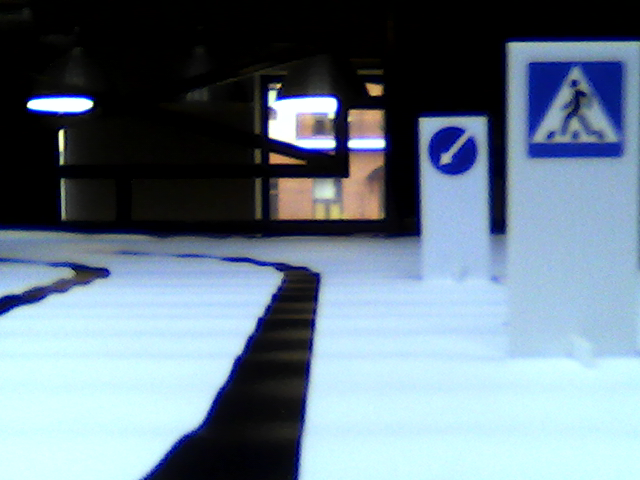pesh: (523, 58, 620, 159)
prep: (426, 126, 477, 175)
